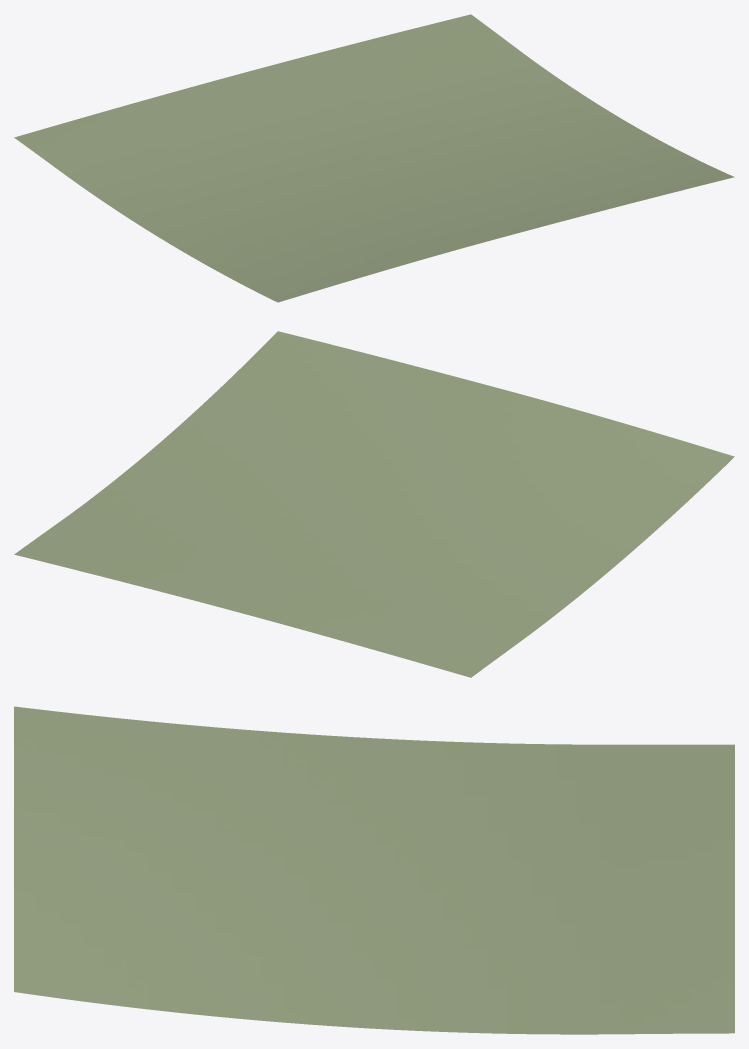
The model's file is expanse-26-3.glb.
3 renders of one model, top to bottom at view 1: azimuth 30°, elevation 25°; view 2: azimuth 150°, elevation 25°; view 3: azimuth 270°, elevation 25°, orthographic. The views are drawn at different scales.
Parts seen in each view (by area): view 1: expanse-26-3; view 2: expanse-26-3; view 3: expanse-26-3.
Part boxes in pixels (x1,y1,x2,y2): expanse-26-3: [14, 14, 734, 302]; expanse-26-3: [14, 331, 734, 677]; expanse-26-3: [14, 706, 734, 1034].
Size of the model in its own units: 256 by 22.51 by 256.
